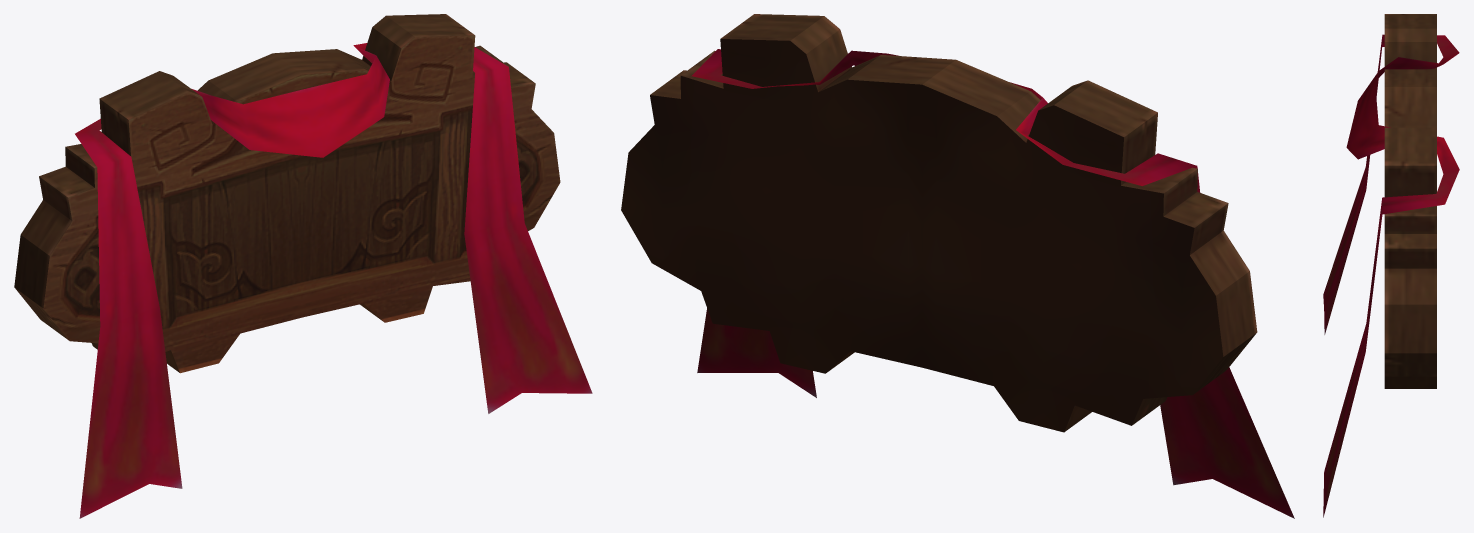
File: QCL_menpai_03.FBX
3 renders of one model, left to right at view 1: azimuth 30°, elevation 25°; view 2: azimuth 150°, elevation 25°; view 3: azimuth 270°, elevation 25°, orthographic. The views are drawn at different scales.
Visible parts, largest first — view 1: Box03; view 2: Box03; view 3: Box03.
Part boxes in pixels (x1,y1,x2,y2): Box03: (14, 14, 592, 518); Box03: (621, 14, 1294, 518); Box03: (1323, 14, 1459, 517).
Bounding box in the file's own units: 66.41 × 45 × 16.94.
